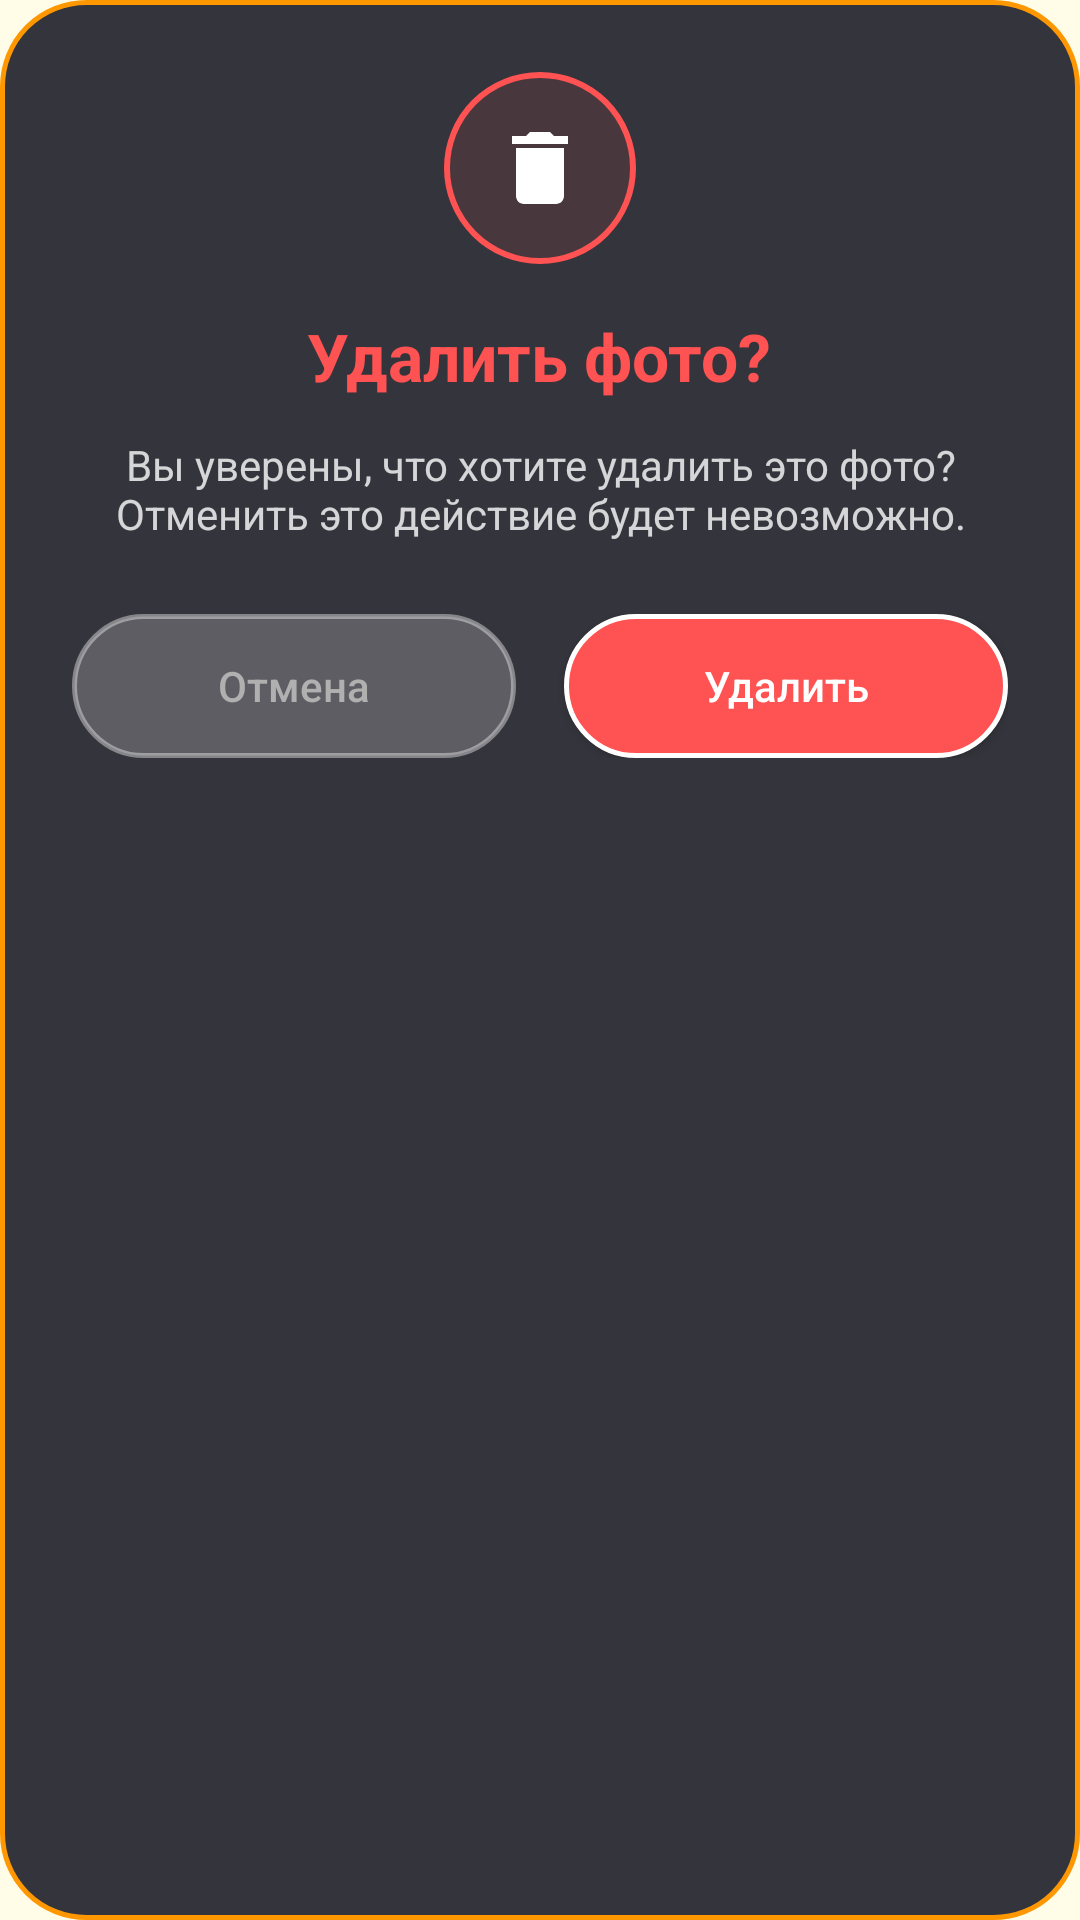

Where to tap for icons on this 1080*1920 app screen, as (x,y):
trash premium: (540,168)
